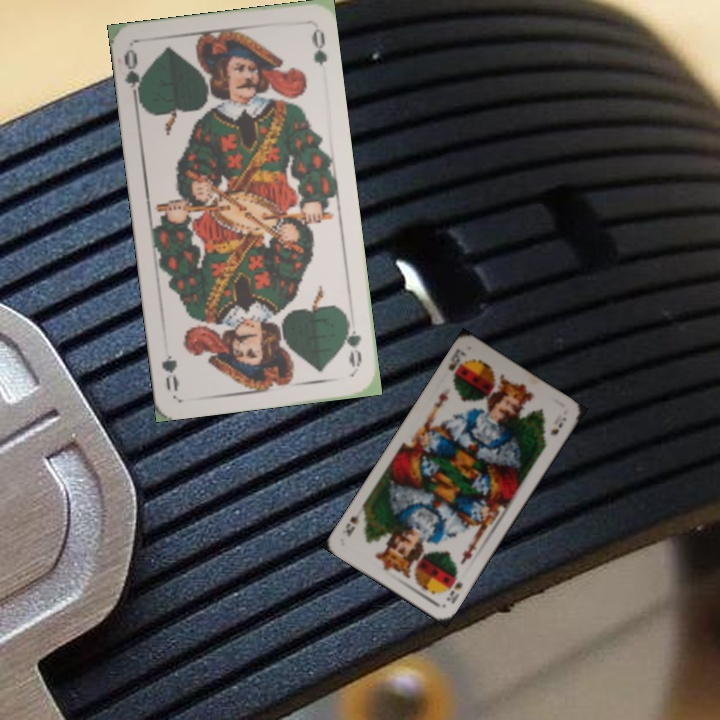GO: (120, 47, 147, 106), (340, 313, 365, 370)
SK: (444, 345, 470, 374), (442, 577, 465, 606)
